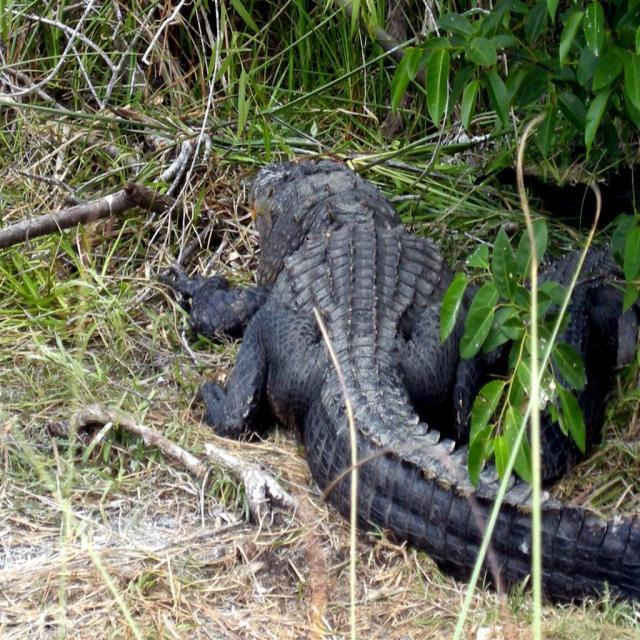crocodile: (131, 144, 639, 622)
